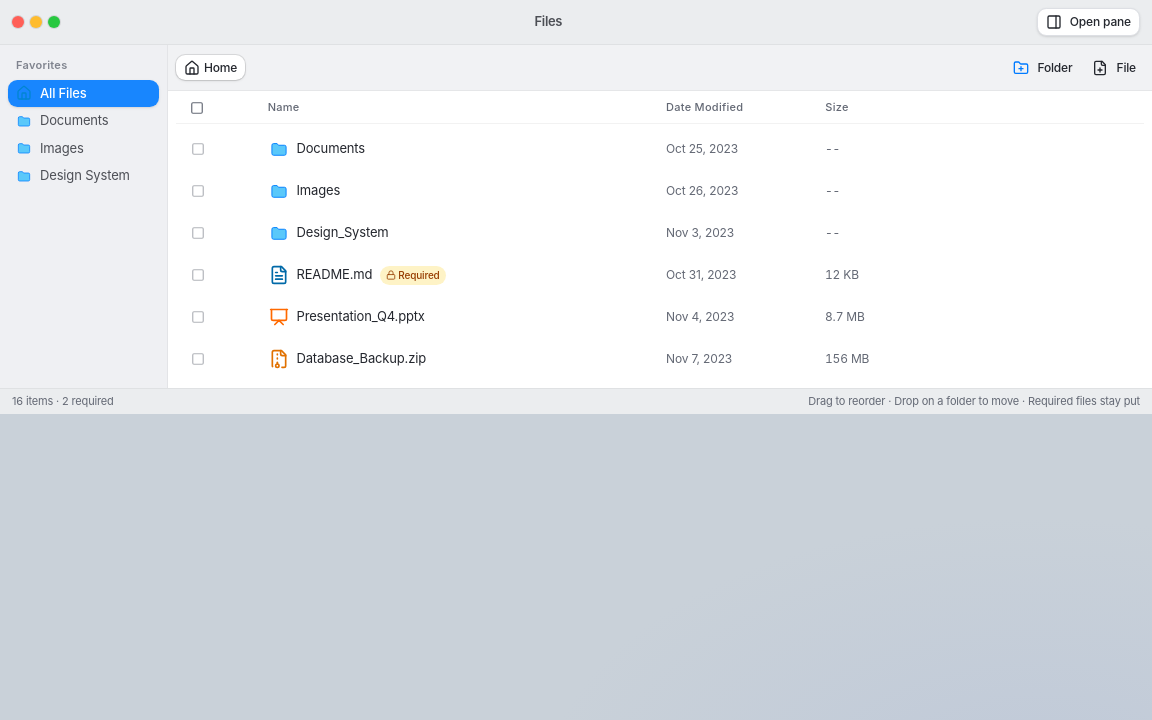
it: FileExplorer › rejects an empty name and keeps the dialog open
Click the button "Folder".
click(1043, 68)  # box [1005,54,1080,82]
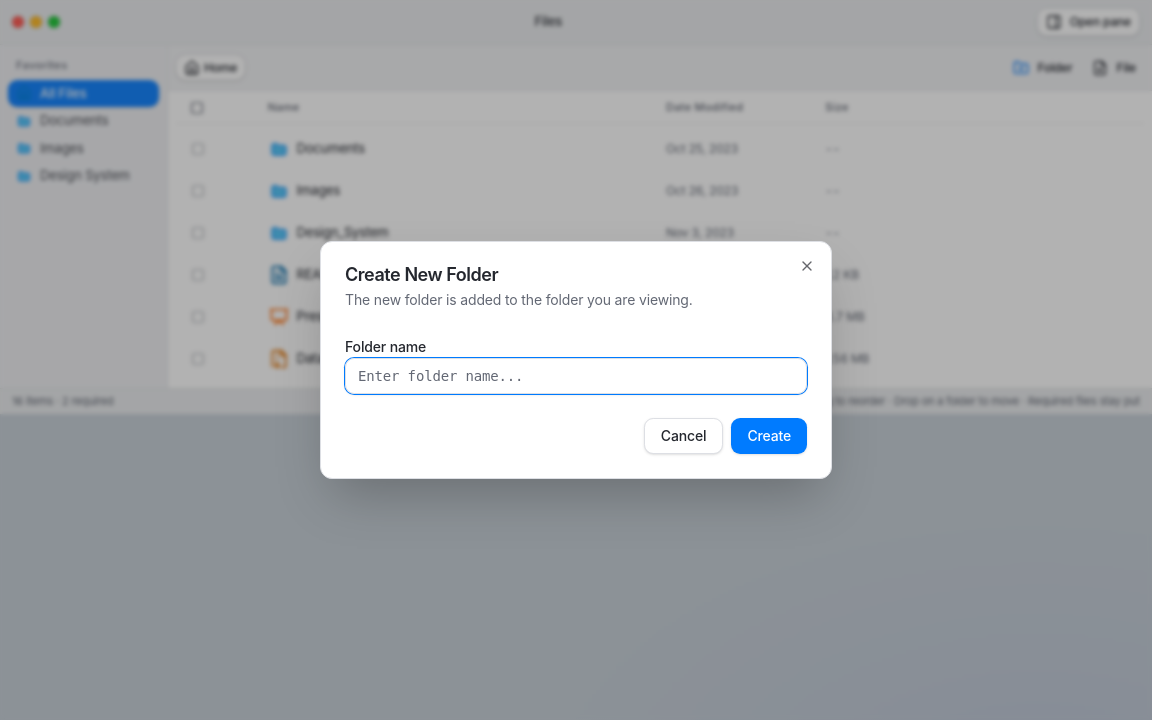
Click the button with test id "button-create-submit".
click(769, 436)  # box [731,418,807,454]
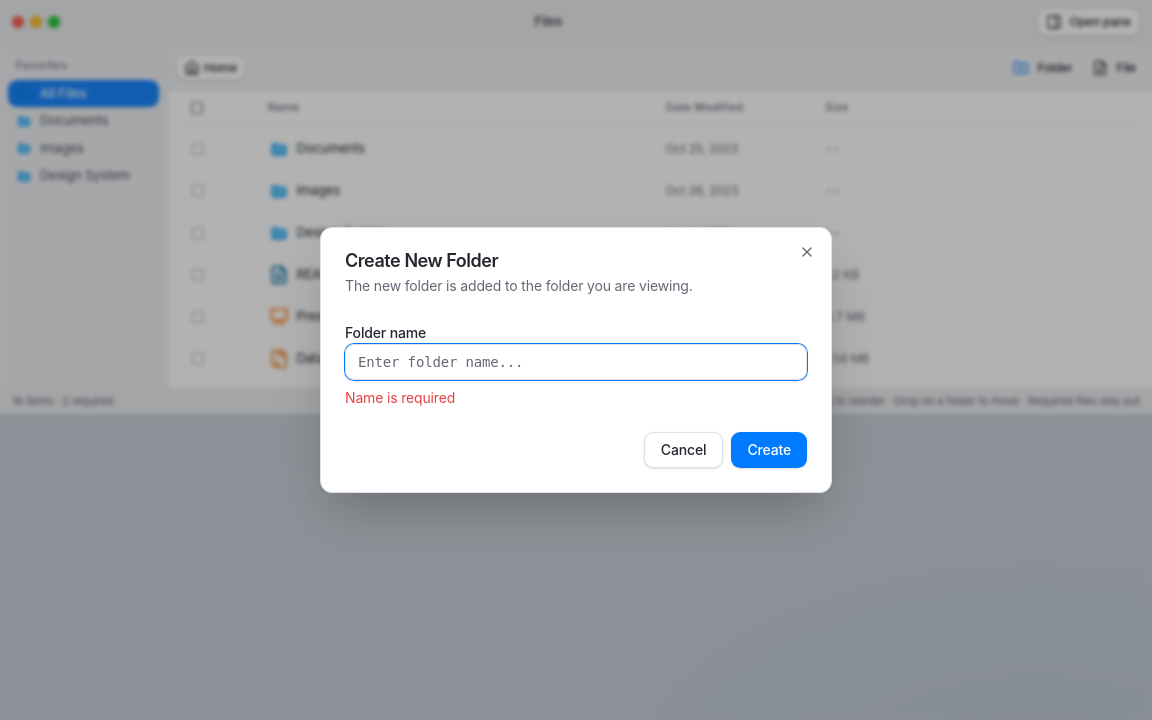
Check: the field with test id "input-create" is shown, box [345,344,807,380]
Check: the message reads "Name is required", box [345,389,455,406]
